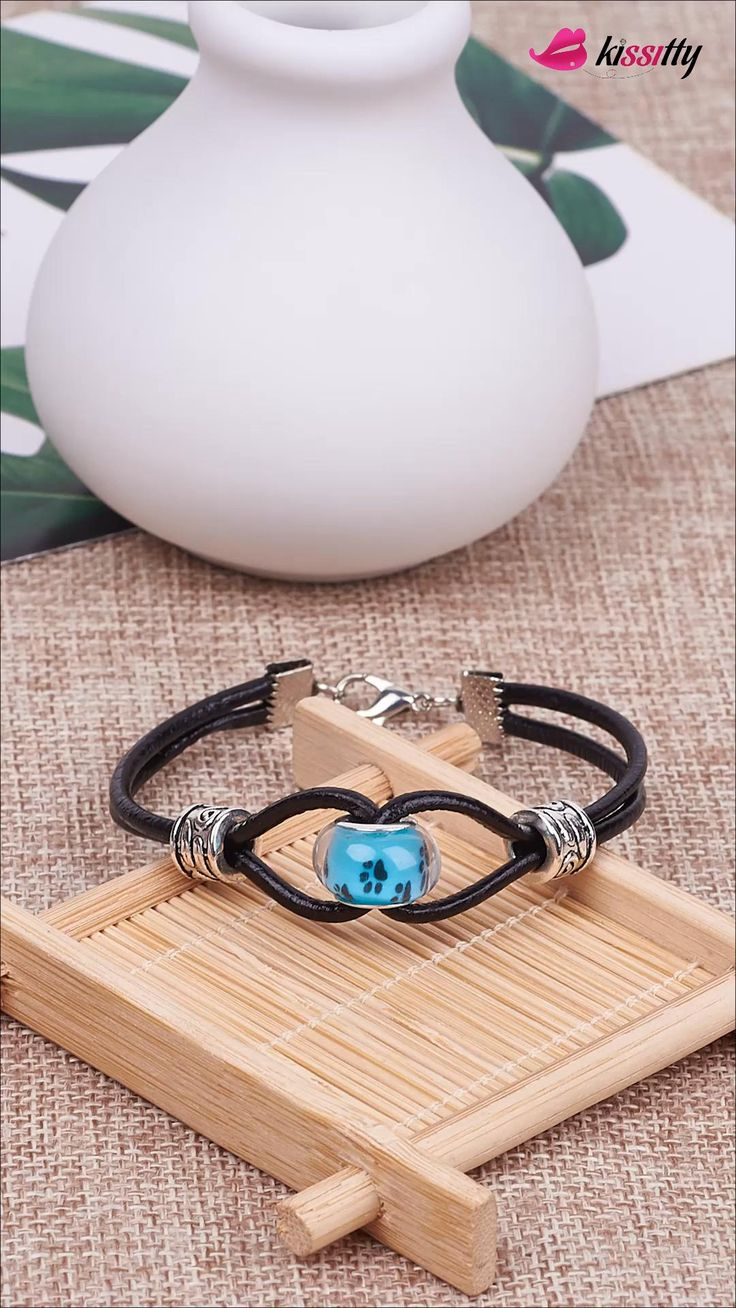cuero: (107, 659, 649, 926)
